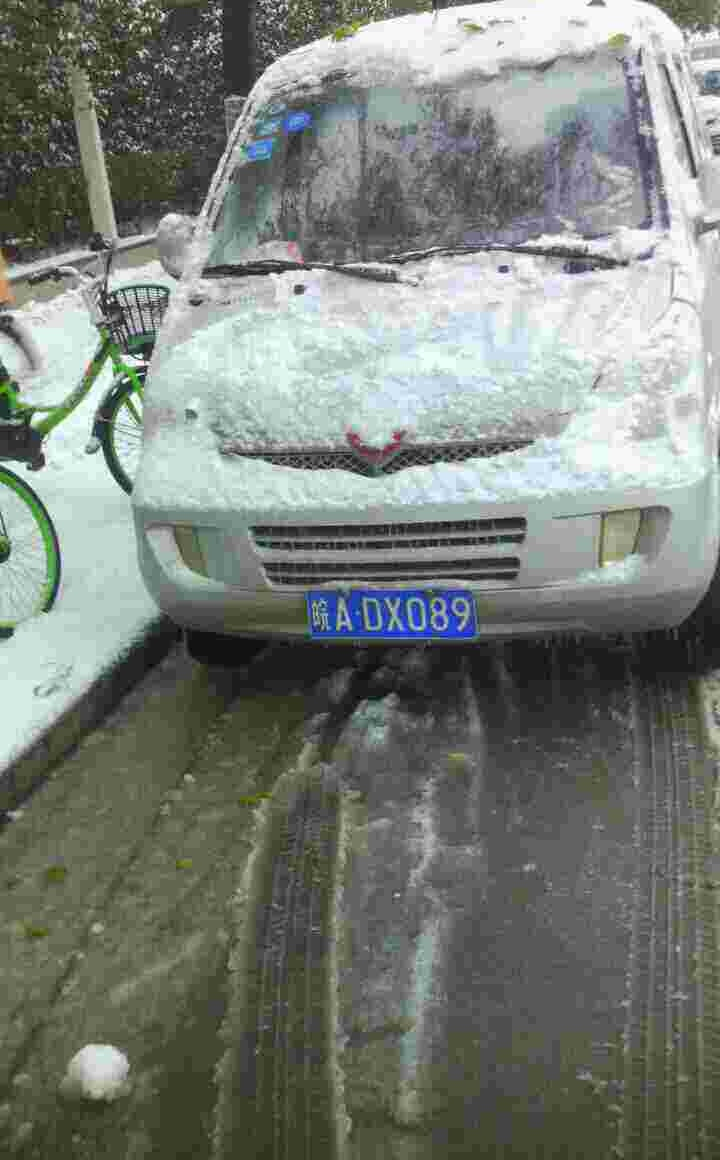plate: (297, 568, 493, 669)
